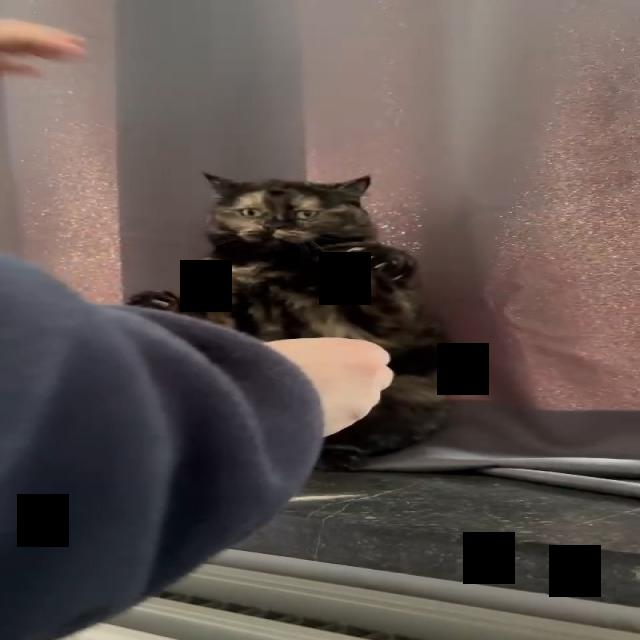authorized: (126, 171, 453, 470)
